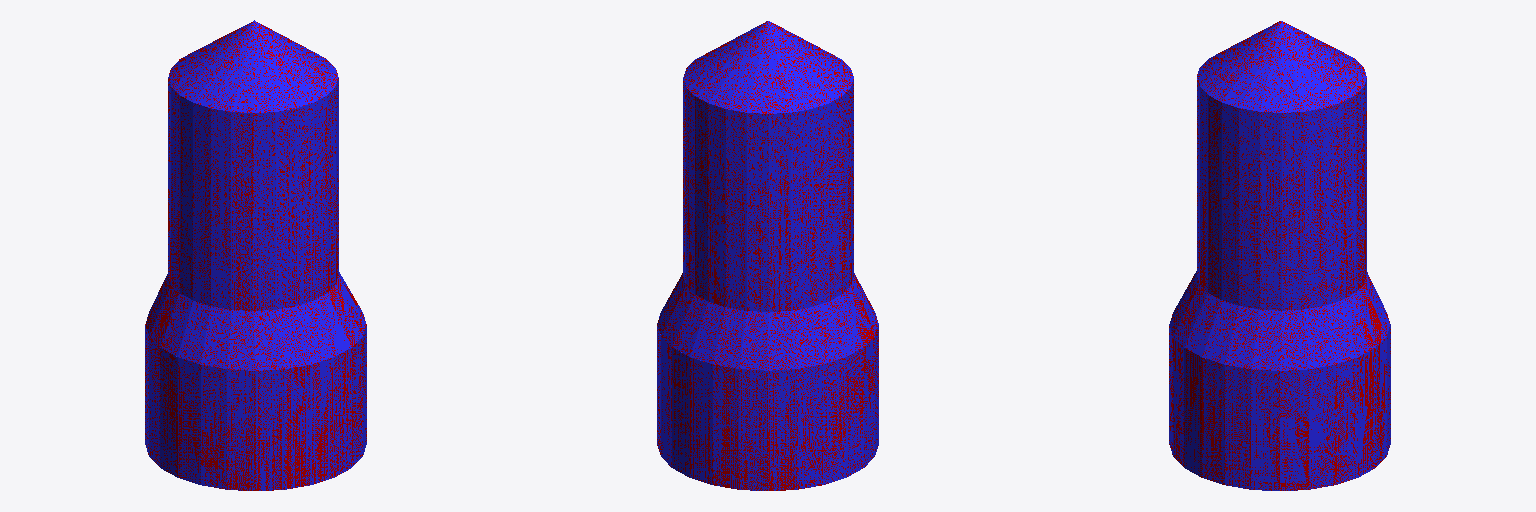
The robot description file, URDF, robot "blue_buoy":
<robot name="blue_buoy">
  <link name="blue_buoy">
    <inertial>
      <origin xyz="0 0 0" />
      <mass value="10.0" />
      <inertia  ixx="10.0" ixy="0.0"  ixz="0.0"  iyy="10.0"  iyz="0.0"  izz="1.0" />
    </inertial>
    <visual>
      <origin xyz="0 0 -1"/>
      <geometry>
            <mesh filename="package://robotx_description/meshes/blue_buoy_marker.dae" scale="1 1 1" />
      </geometry>
    </visual>
    <collision>
      <origin xyz="0 0 0"/>
      <geometry>
        <cylinder length="0.99" radius="0.127" />
      </geometry>
    </collision>
  </link>
  <gazebo reference="blue_buoy">
    <material>Gazebo/Blue</material>
  </gazebo>
</robot>

--- What the picture shows (computed from the rendered views, not written in the file) ---
3 views of the same robot in one strip: view 1: azimuth 30°, elevation 25°; view 2: azimuth 150°, elevation 25°; view 3: azimuth 270°, elevation 25° (orthographic).
Robot: blue_buoy — 1 links, 0 joints (none); root link blue_buoy; default pose: all joints at 0.
Visible links, largest first — view 1: blue_buoy; view 2: blue_buoy; view 3: blue_buoy.
Link boxes in pixels (<box>): blue_buoy: <box>145,20,366,490</box>; blue_buoy: <box>657,21,878,490</box>; blue_buoy: <box>1169,21,1390,490</box>.
Size in the robot's own frame: 0.9398 by 0.9398 by 1.99 metres.
1 mesh visuals loaded from 1 distinct referenced files (1 Collada DAE).